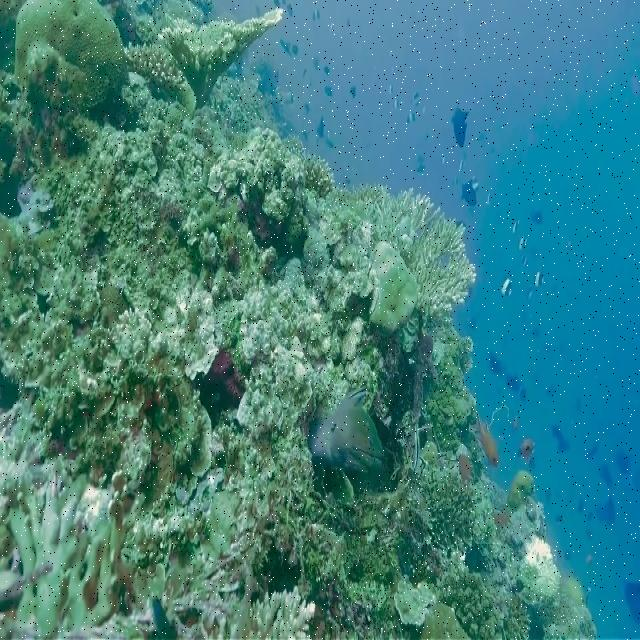fish: (312, 388, 384, 468)
reefs: (8, 476, 166, 631), (325, 187, 477, 309), (159, 9, 282, 104)
